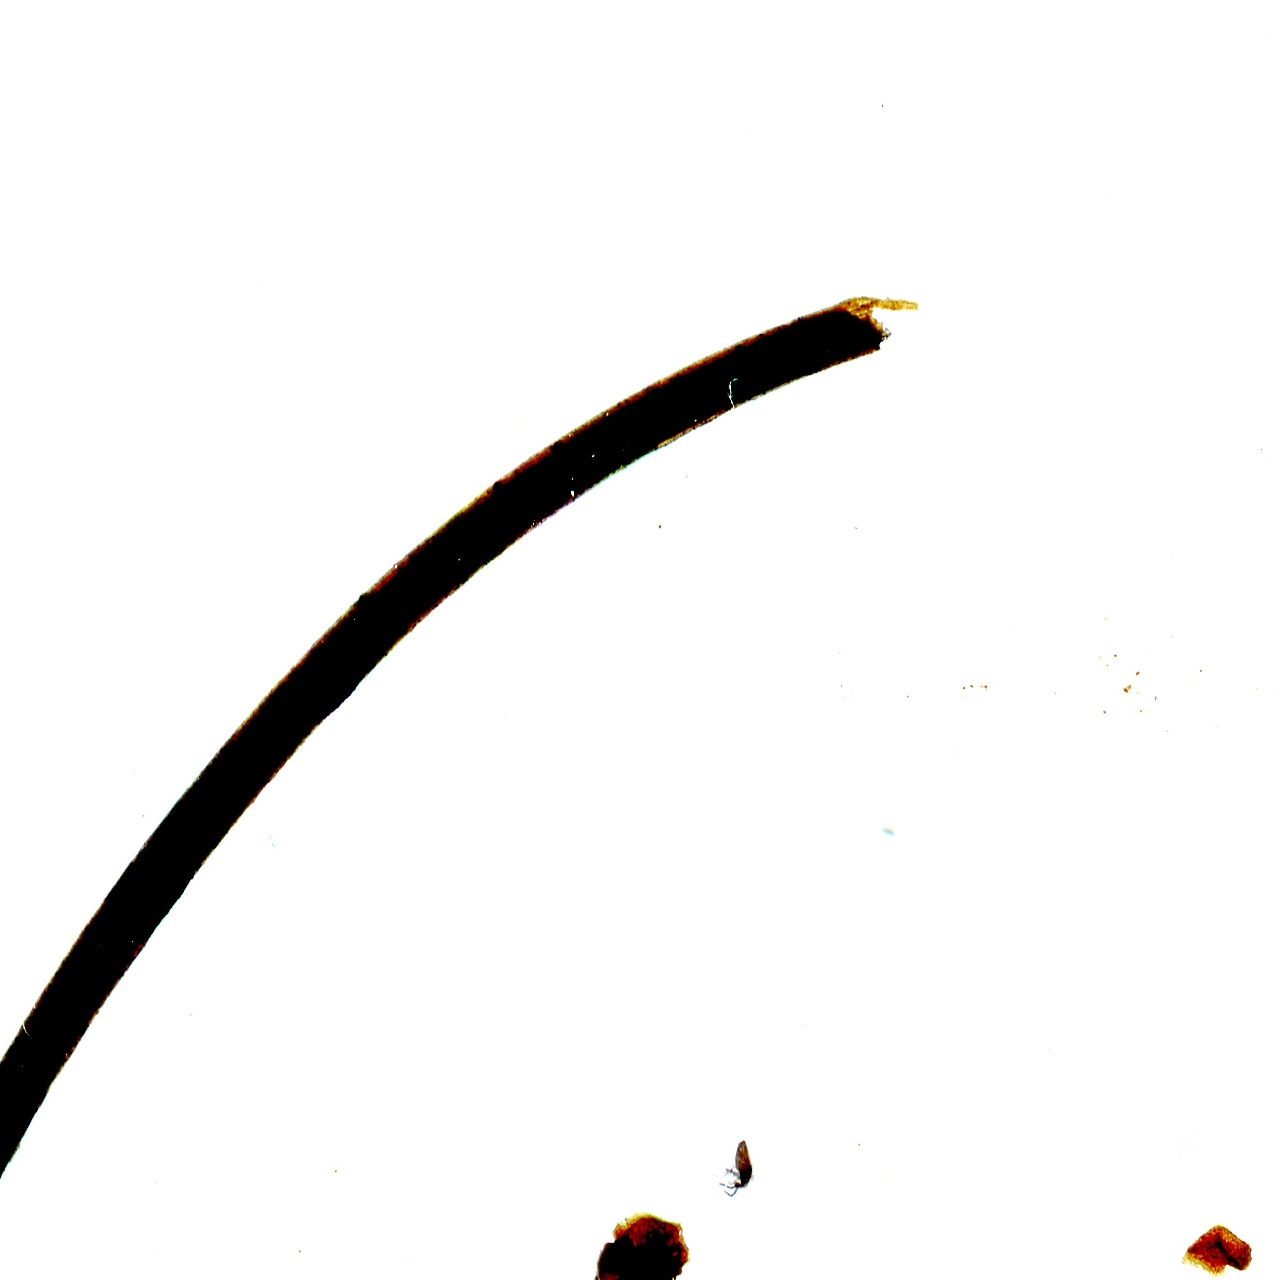arthropod: (708, 1123, 769, 1219)
